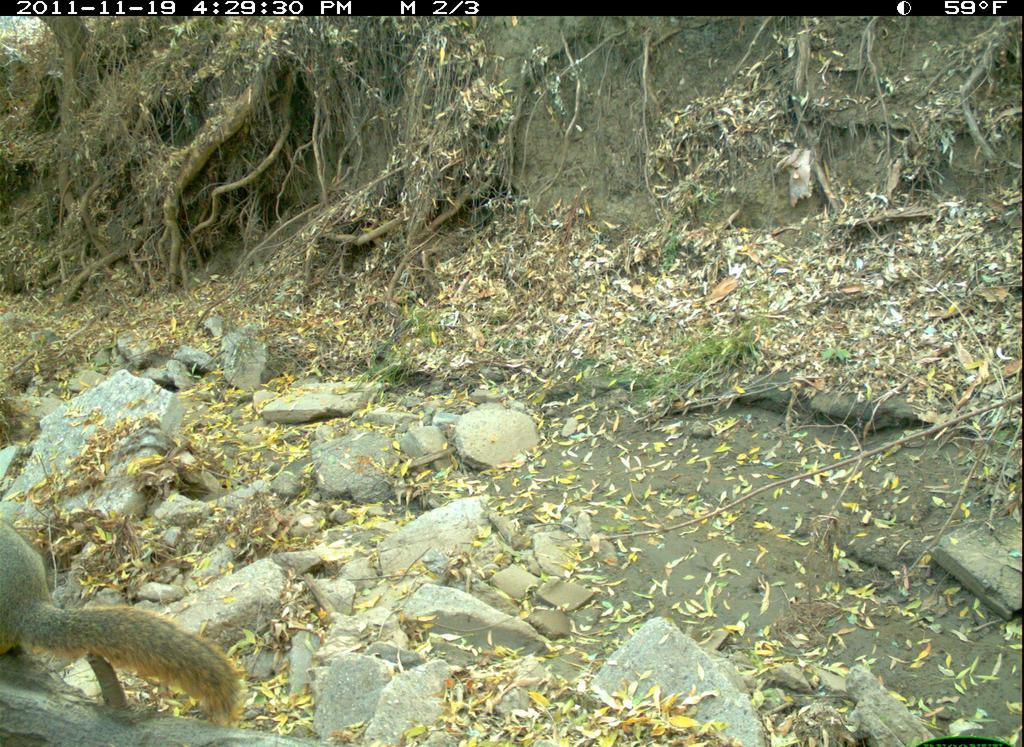squirrel: (1, 507, 251, 740)
